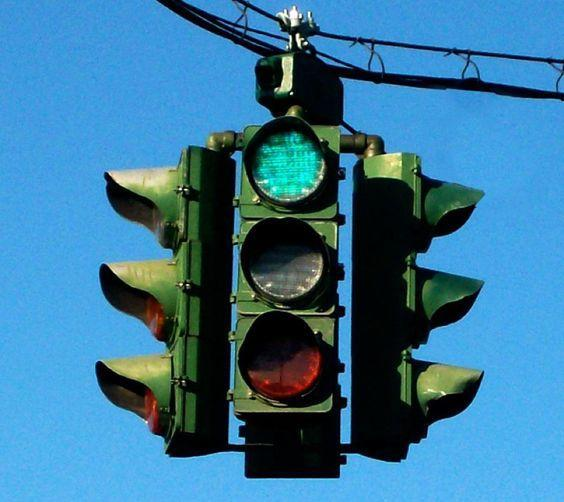green: (225, 117, 352, 415)
